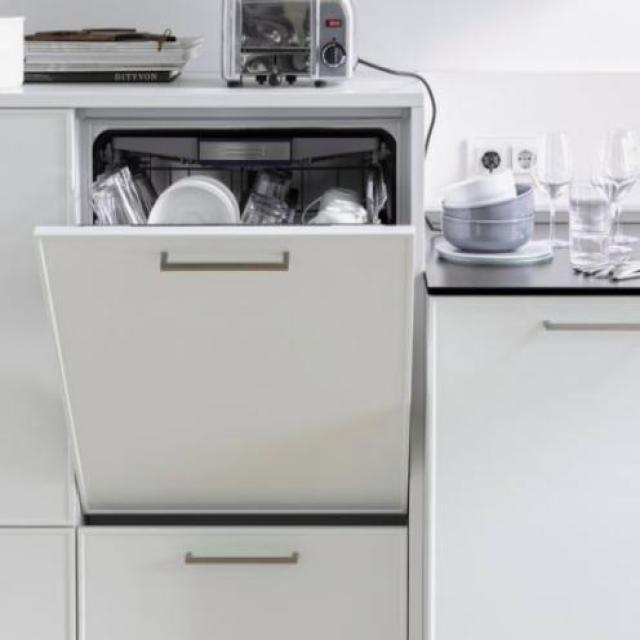dishwasher: (30, 107, 408, 520)
